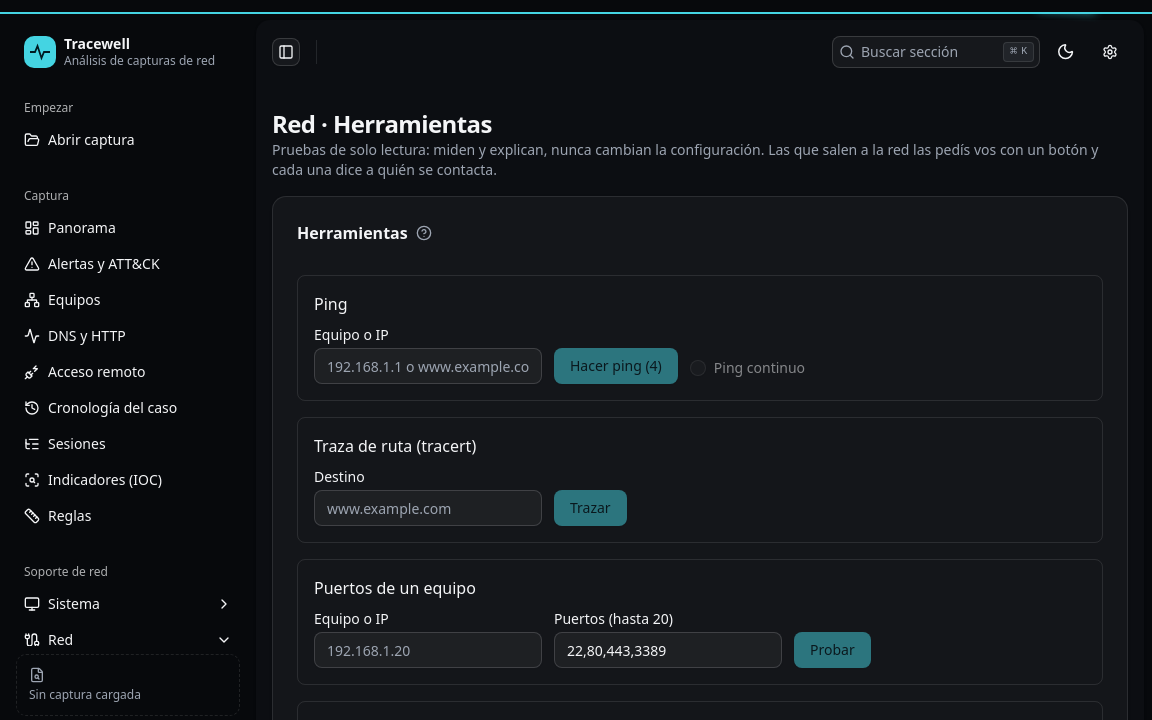
Test case: Soporte de red › herramientas: el ping muestra el resultado y exige un destino
The width and height of the screenshot is (1152, 720).
Expected: the button "Hacer ping (4)" is disabled, [554,348,678,384]
Type "127.0.0.1" into the field labelled "Equipo o IP" in the row of "Ping continuo" at (428, 366), box [314,348,542,384]
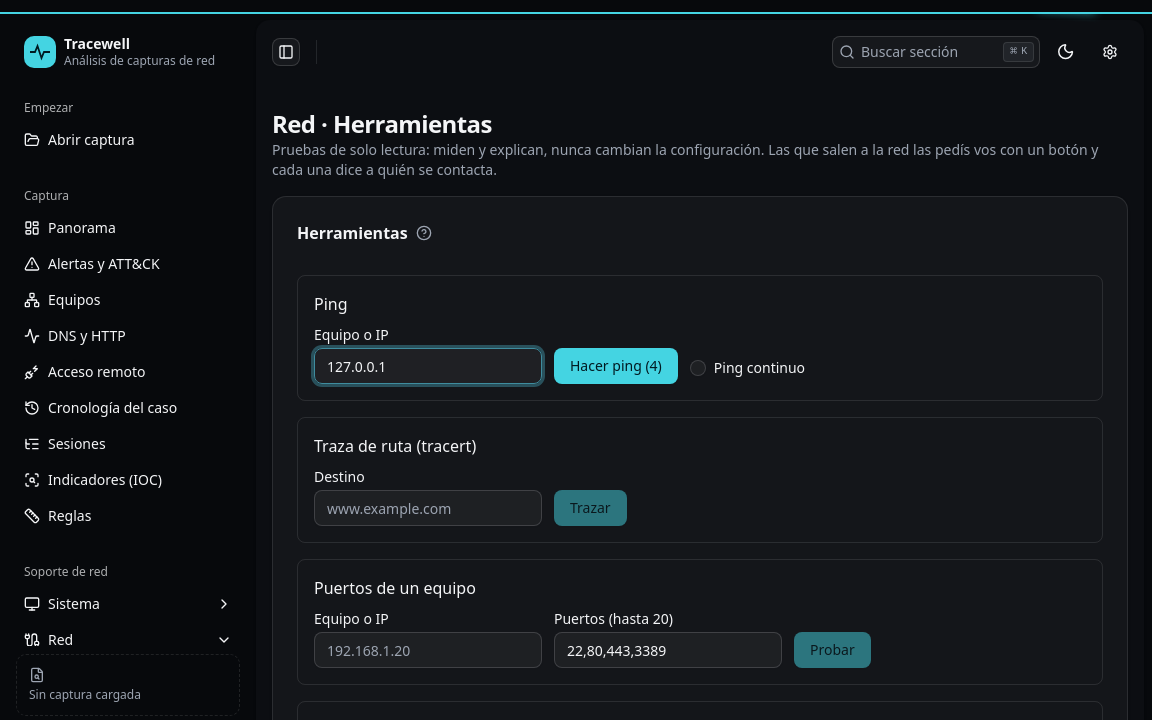
Click the button "Hacer ping (4)" at (616, 366), box [554,348,678,384]
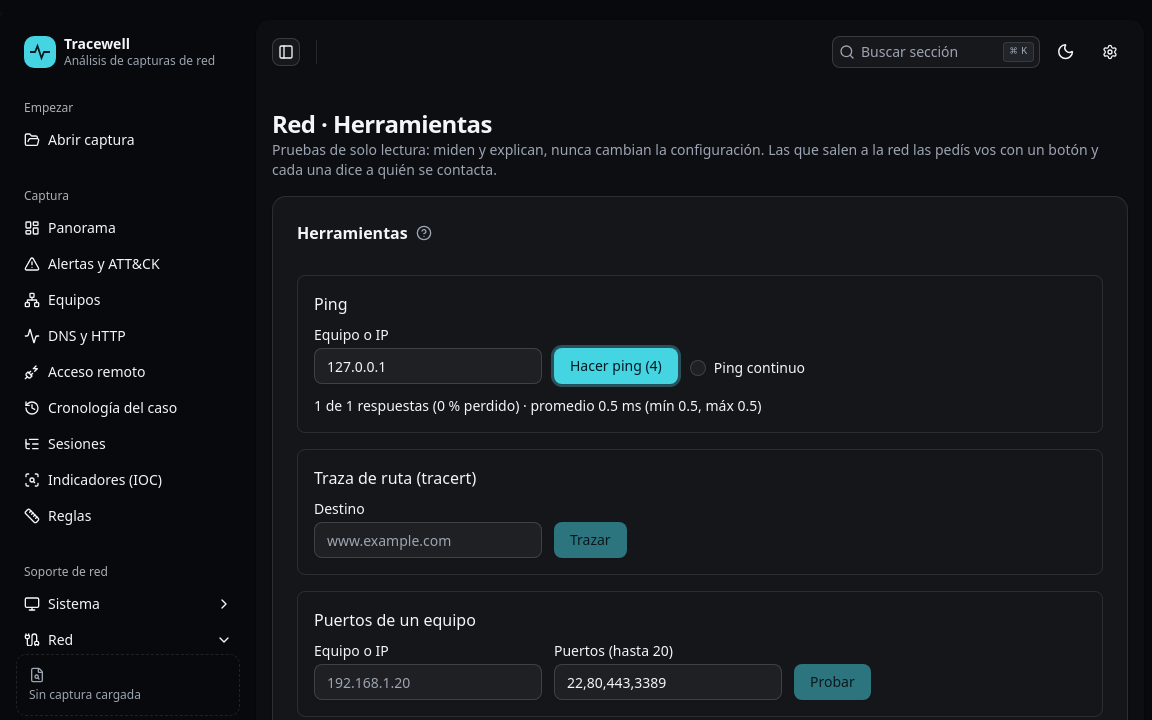
Expected: the text "1 de 1 respuestas" is shown, [314,396,761,415]
